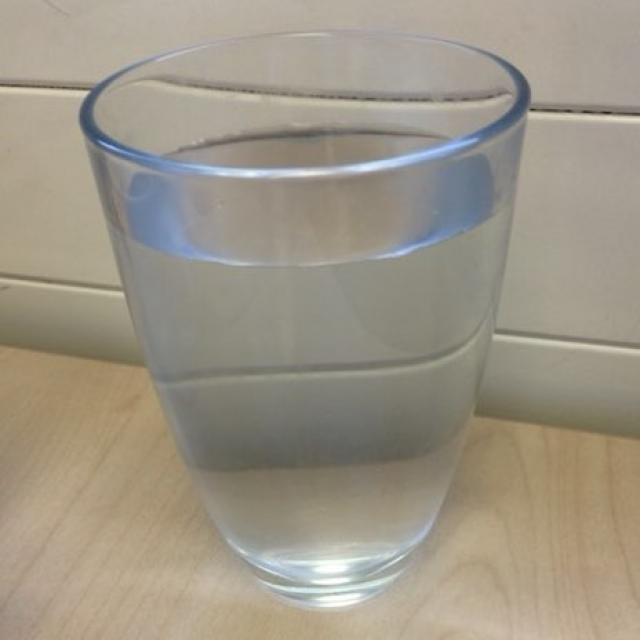water: (101, 108, 504, 497)
